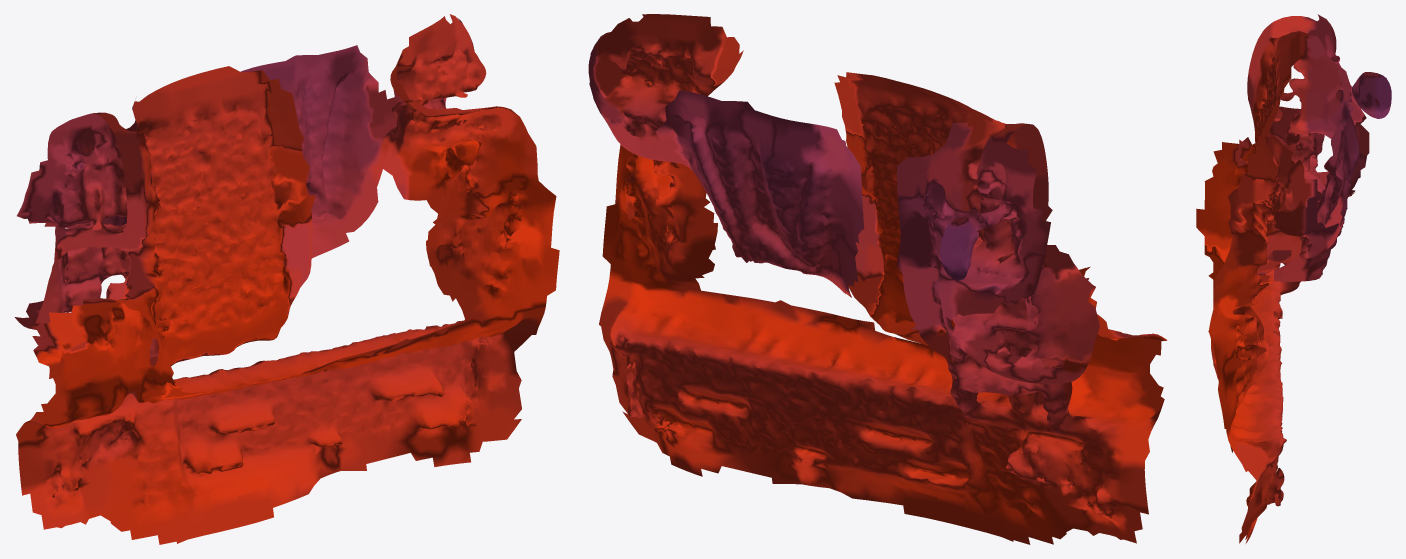
The picture shows the model from 3 angles, left to right: view 1: azimuth 30°, elevation 25°; view 2: azimuth 150°, elevation 25°; view 3: azimuth 270°, elevation 25°; orthographic projection. The views are drawn at different scales.
Bounding box in the file's own units: 3.53 × 2.8 × 1.26.
